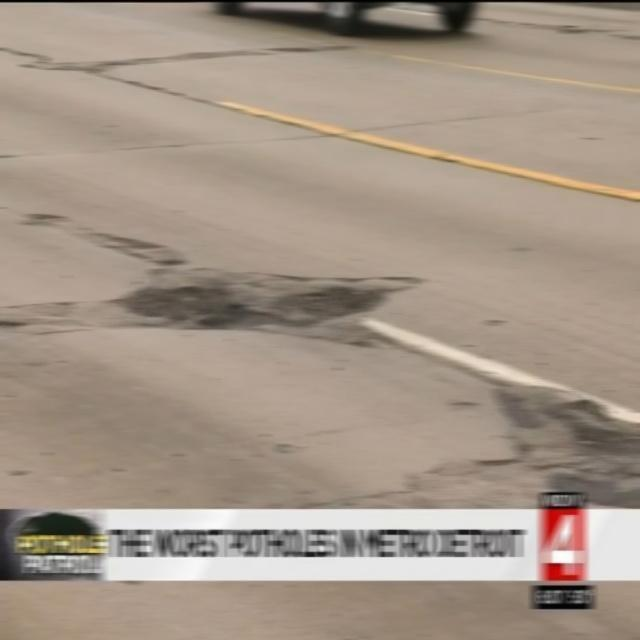Pothole: (105, 268, 421, 366), (476, 363, 640, 512), (55, 218, 197, 296), (19, 209, 60, 229)
